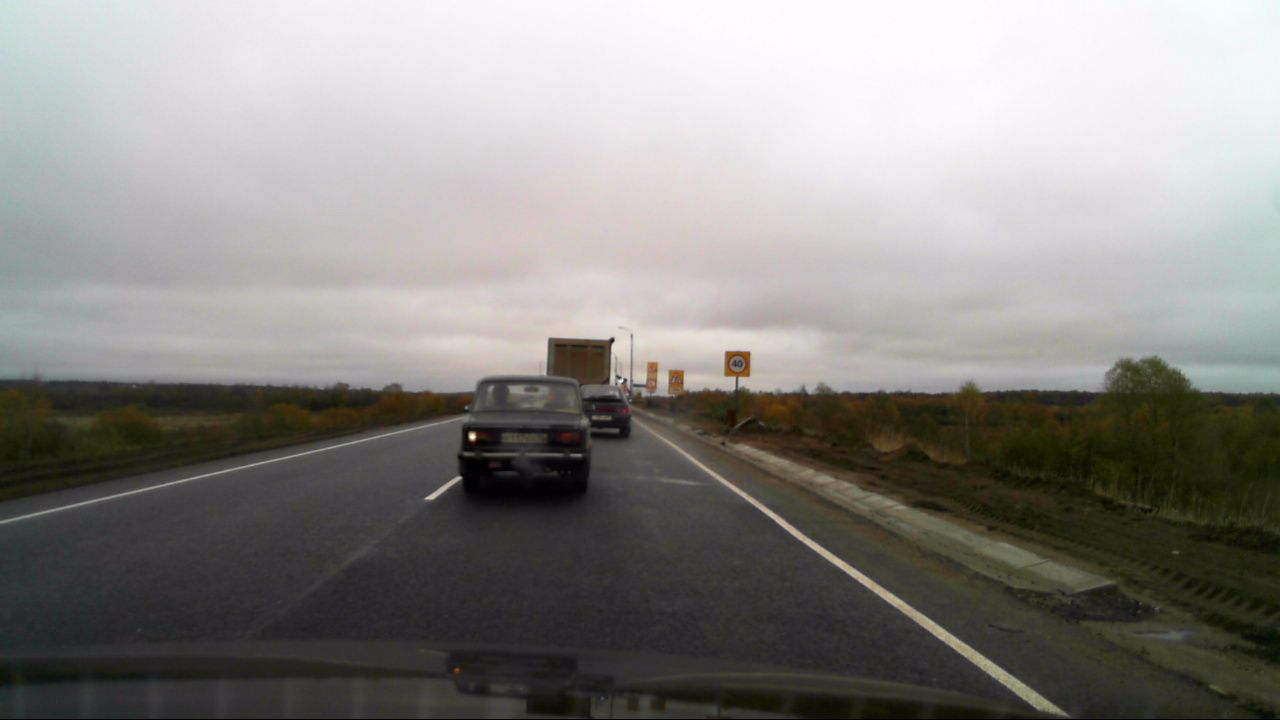speed_warning_40: (725, 350, 750, 376)
